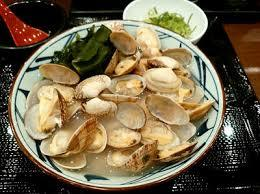asari: (6, 17, 228, 191)
